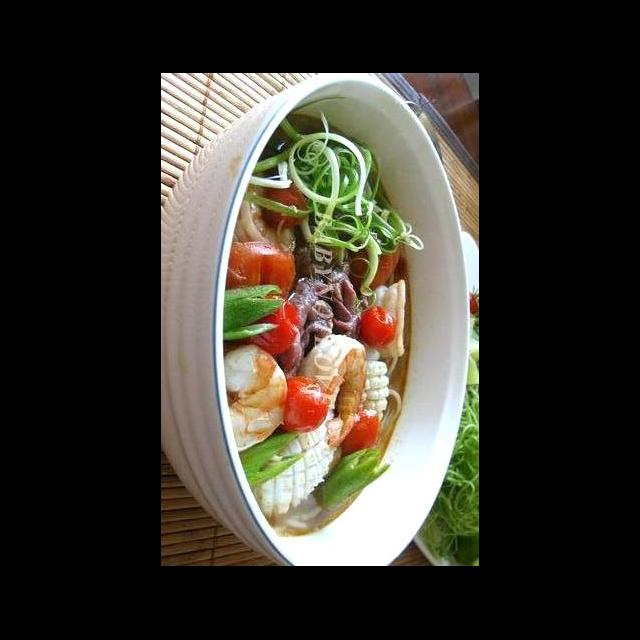muc: (246, 399, 352, 524), (347, 340, 396, 430)
tom: (206, 340, 293, 454)
